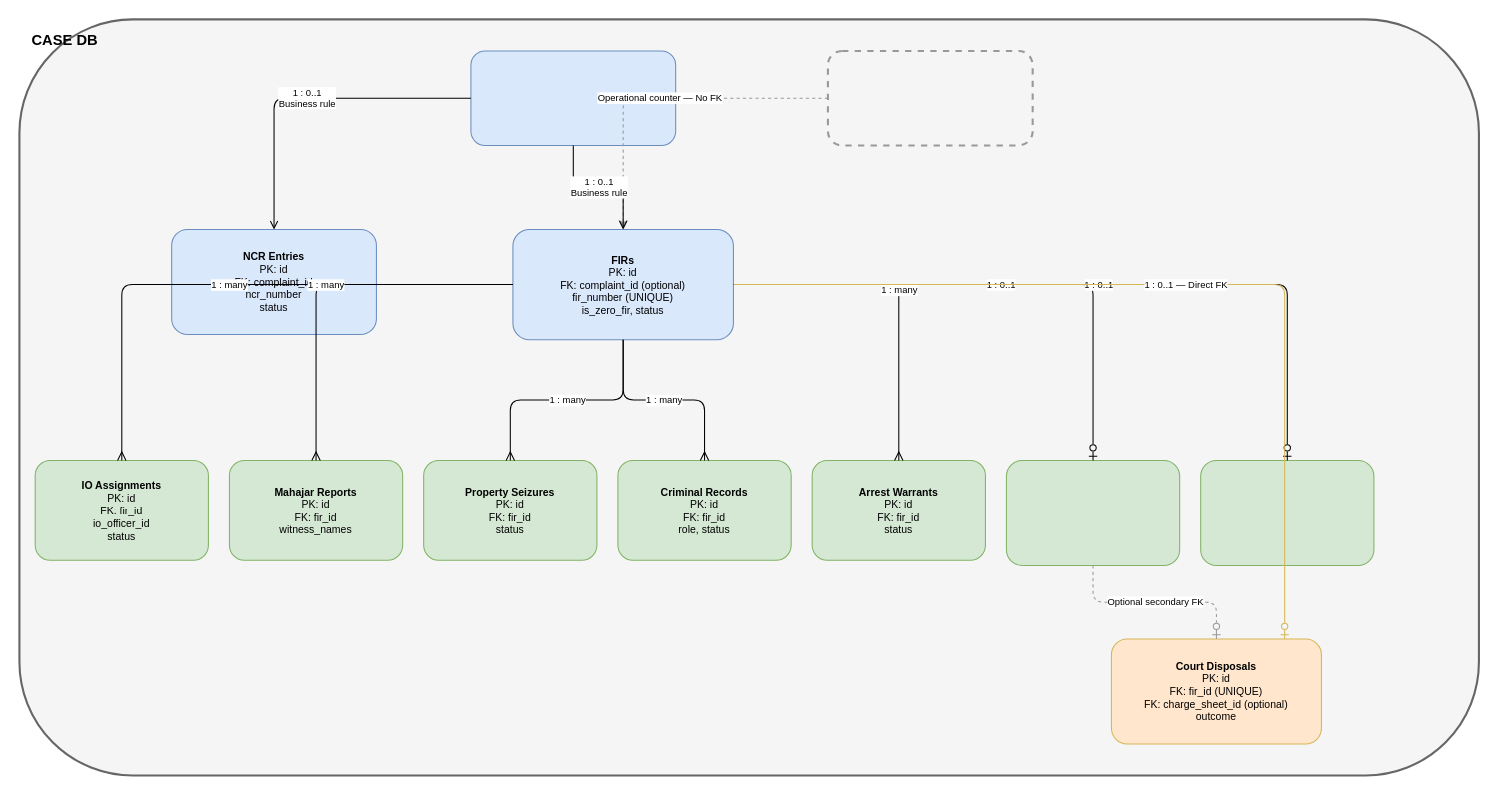
Image size: 1497x794. Some labels were removed from this diagram. The shapes that lost their labels are listed below. From the top down, each one's centre as x and y in pixels, then its label:
point (573, 97): Complaints PK: id complaint_number status
point (929, 97): FIR Sequence PK: station_code + year last_seq (Operational counter)
point (1092, 512): Charge Sheets PK: id FK: fir_id (UNIQUE) evidence_summary status
point (1287, 512): Final Reports PK: id FK: fir_id (UNIQUE) report_type status
